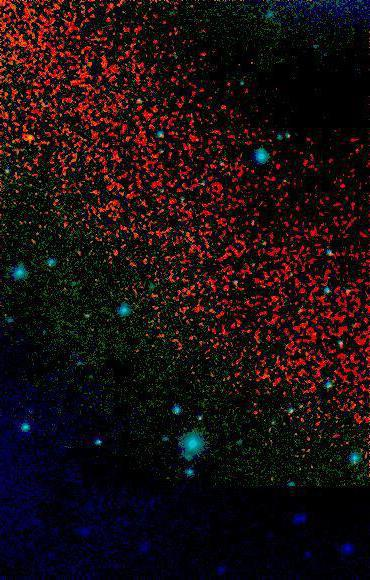star: (15, 124, 45, 154)
